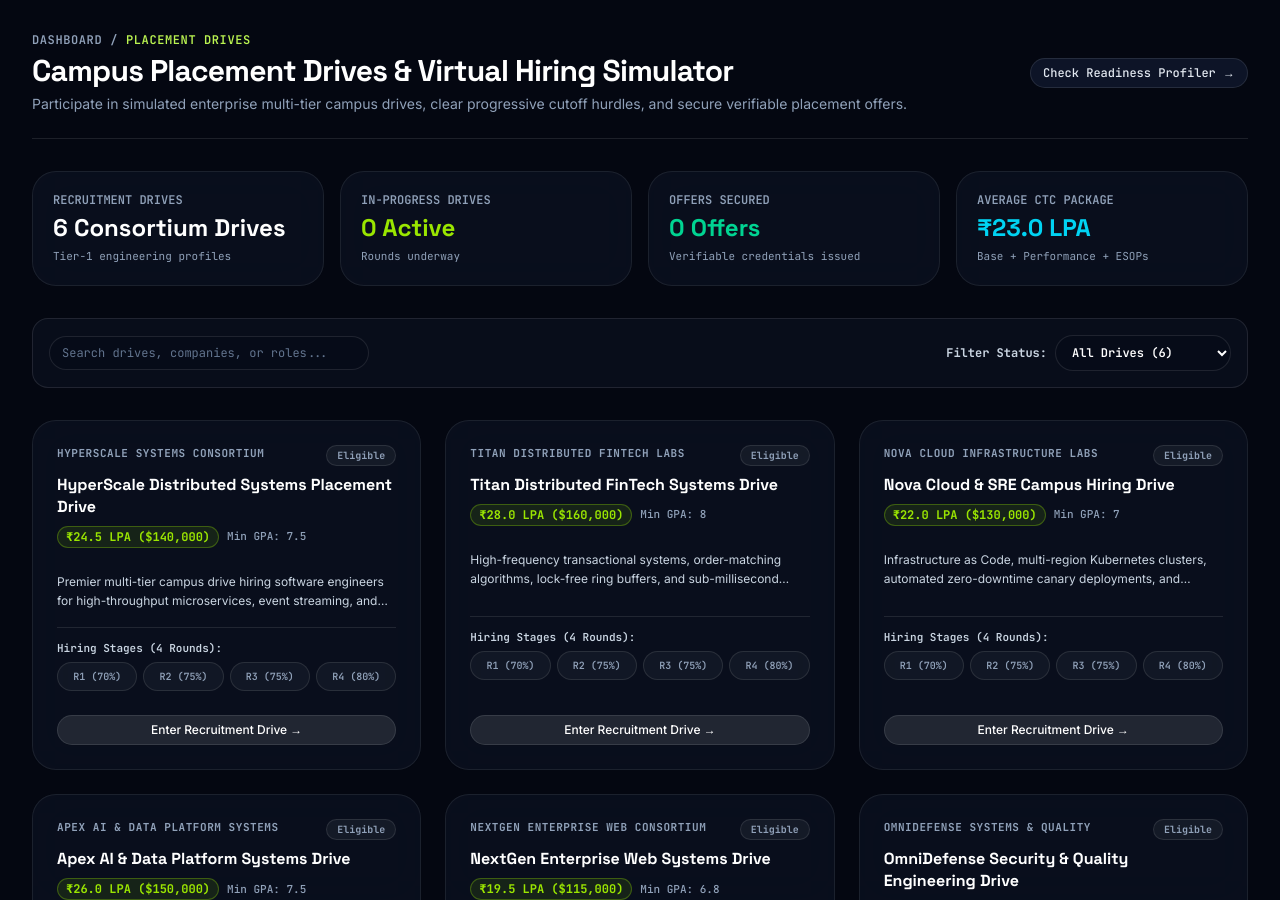
Test: DrivesHubPage › filters drives dynamically based on search query
Type "FinTech" into the field named "Search Recruitment Drives".
click(209, 352); type("FinTech")  # box [49,336,369,370]
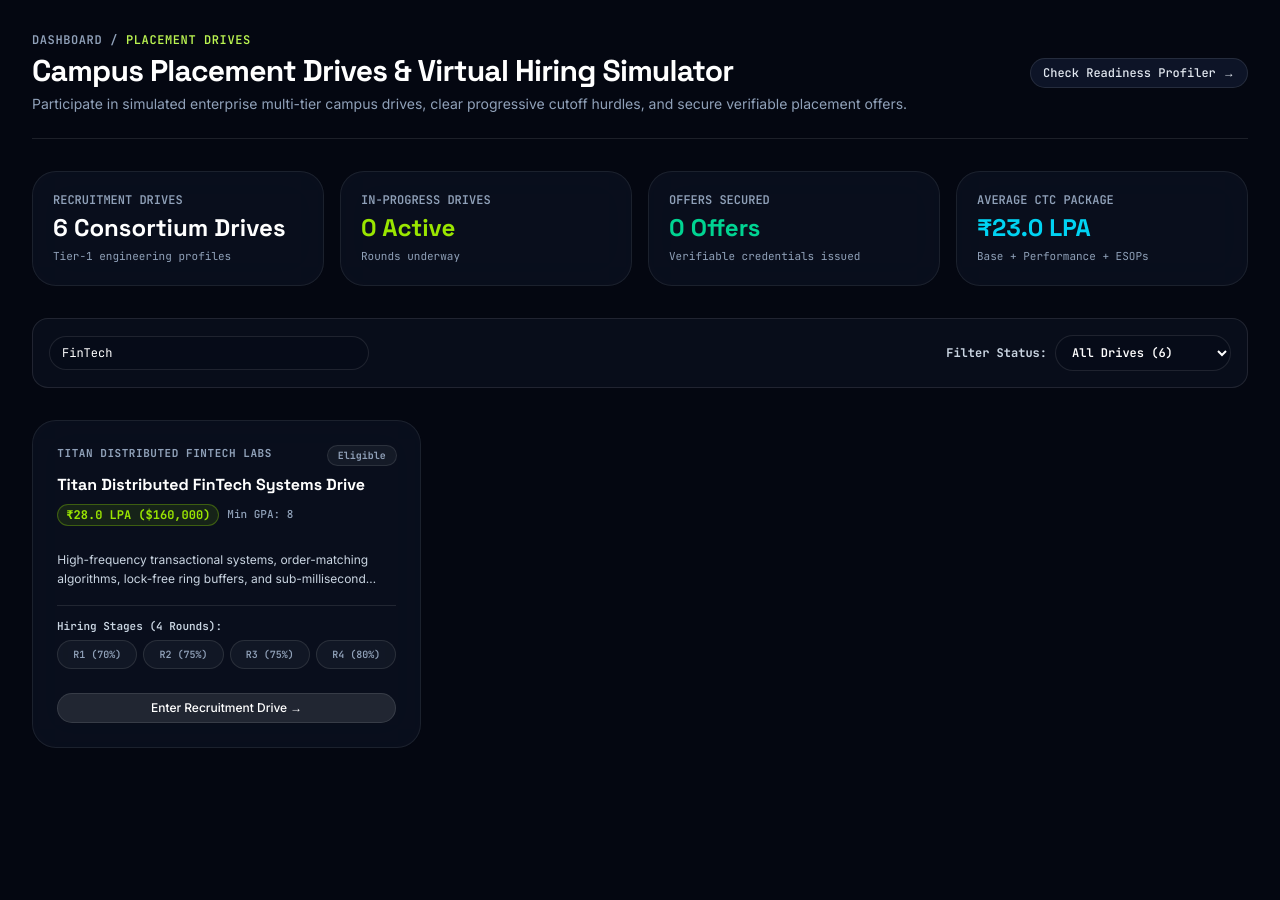
Expected: the text "Titan Distributed FinTech Labs" is shown, [57,444,272,461]
Now the text "Nova Cloud Infrastructure Labs" is gone
